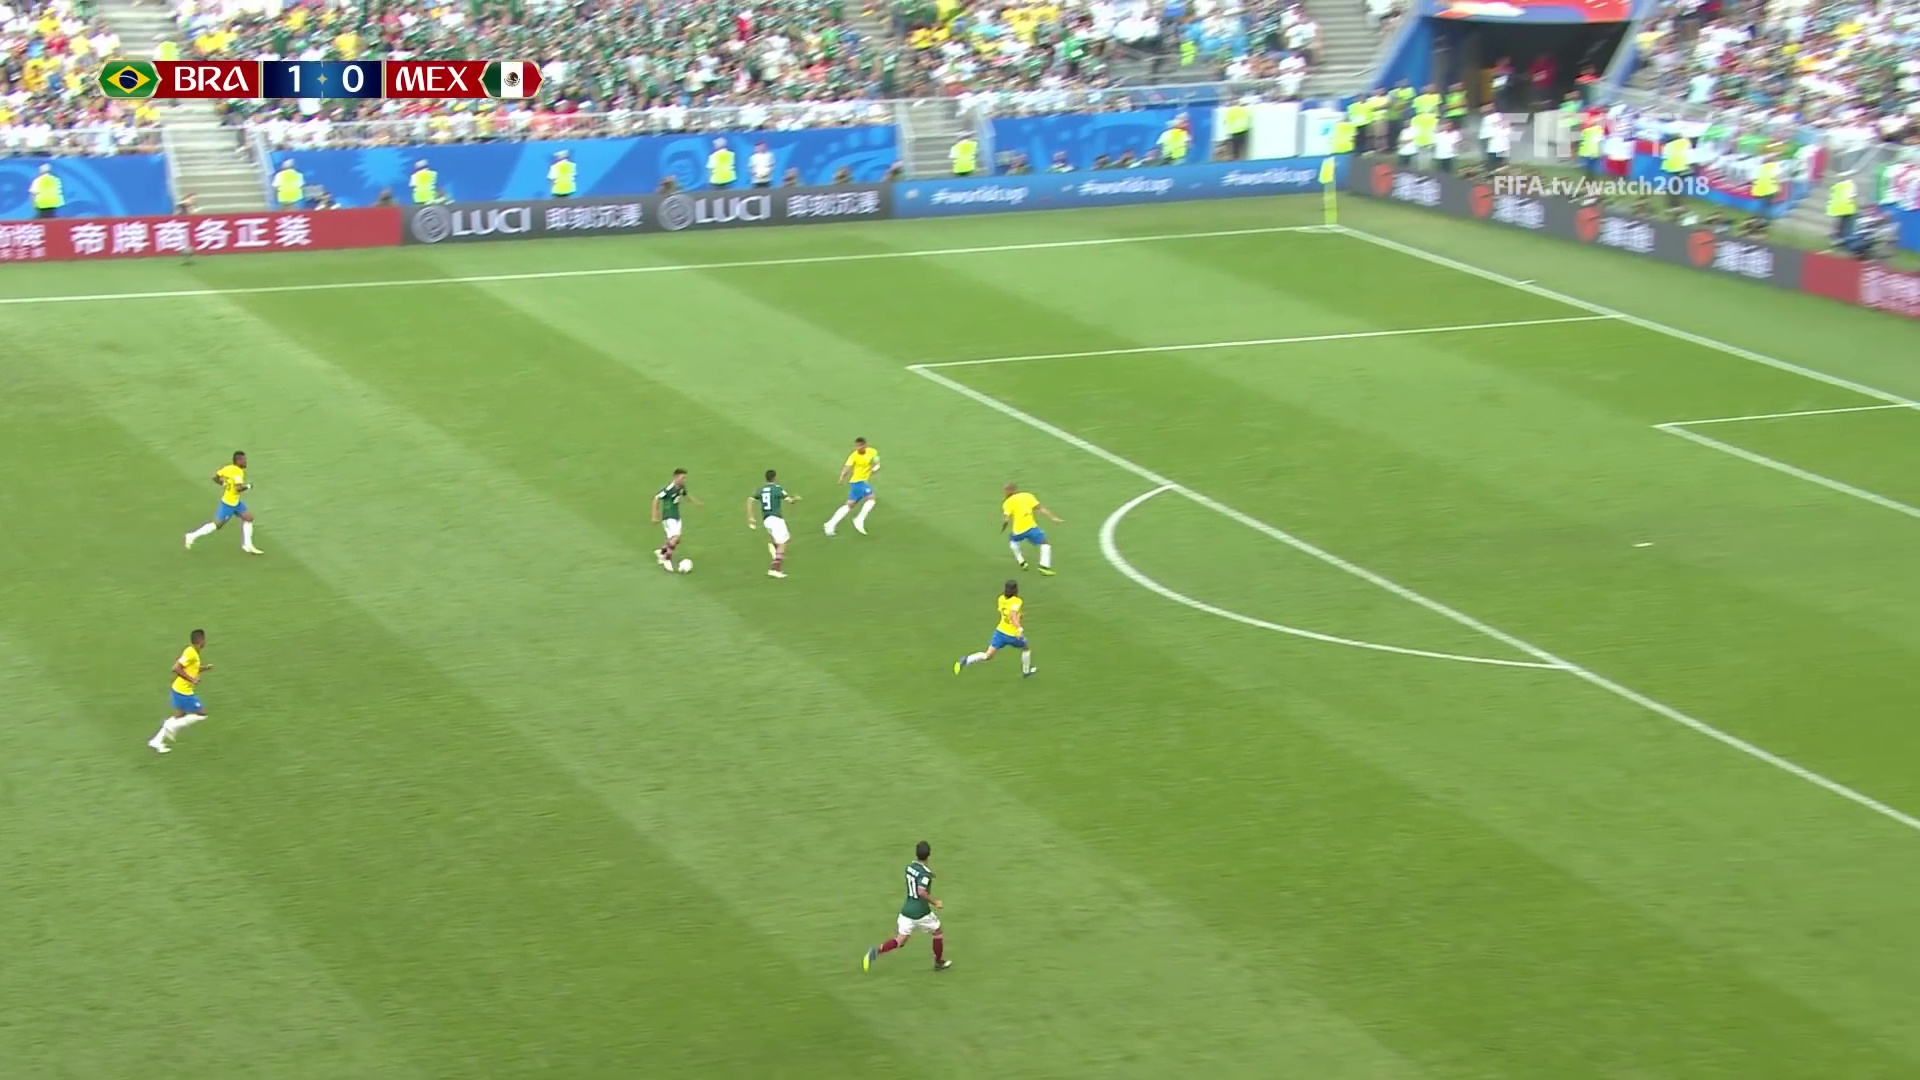ball: (679, 559, 692, 572)
person: (859, 839, 954, 967), (181, 449, 265, 552), (952, 581, 1037, 675), (148, 628, 208, 756), (1000, 481, 1059, 577), (748, 472, 800, 578), (824, 436, 878, 537), (654, 469, 696, 575)
